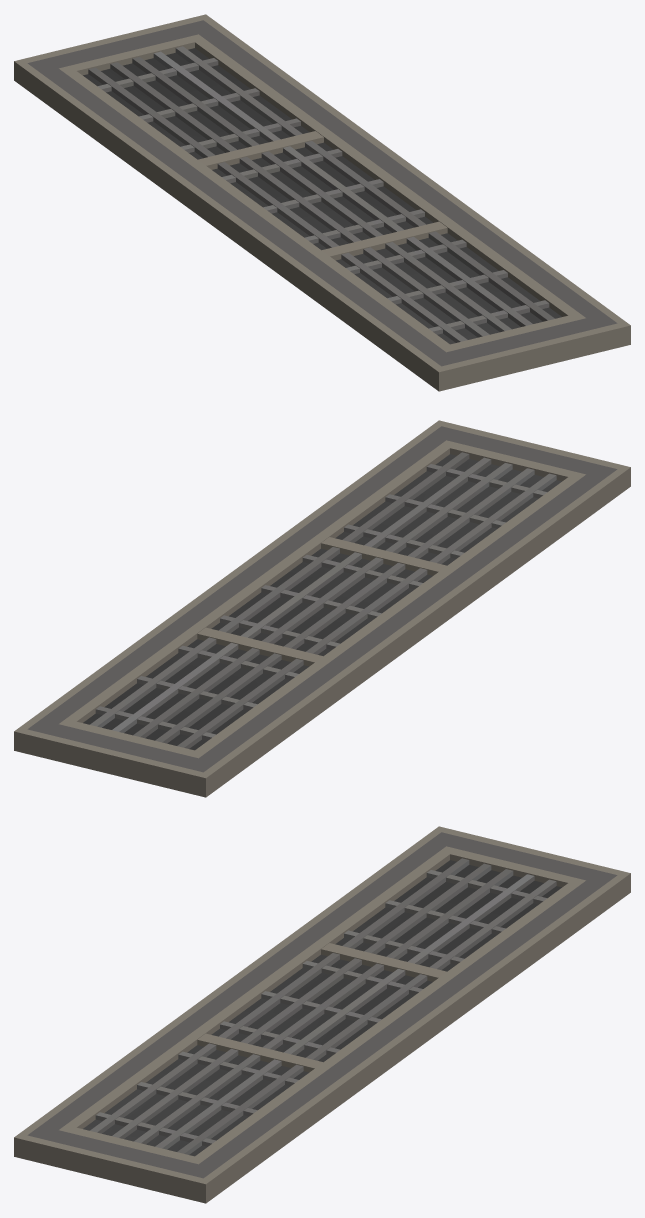
Rendered from Grate_2_A.fbx.
3 views of the same model, one above another, from view 1: azimuth 30°, elevation 25°; view 2: azimuth 150°, elevation 25°; view 3: azimuth 330°, elevation 25° (orthographic).
Visible parts, largest first — view 1: Grate_2_A; view 2: Grate_2_A; view 3: Grate_2_A.
Boxes of the visible parts, x1,y1,x2,y2 form: Grate_2_A: [14, 14, 630, 391]; Grate_2_A: [14, 420, 630, 797]; Grate_2_A: [14, 826, 630, 1203].
Bounding box in the file's own units: 37.9 × 3.65 × 145.
